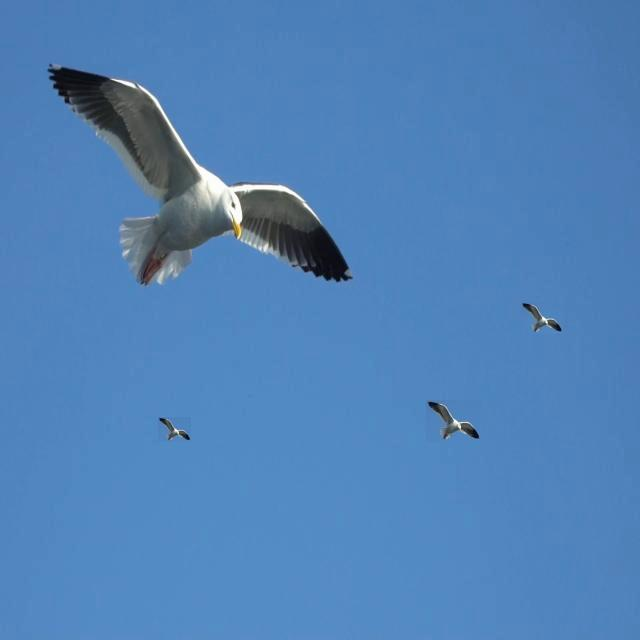bird: (38, 59, 360, 292), (429, 403, 481, 441), (524, 303, 563, 334), (159, 416, 190, 441)
